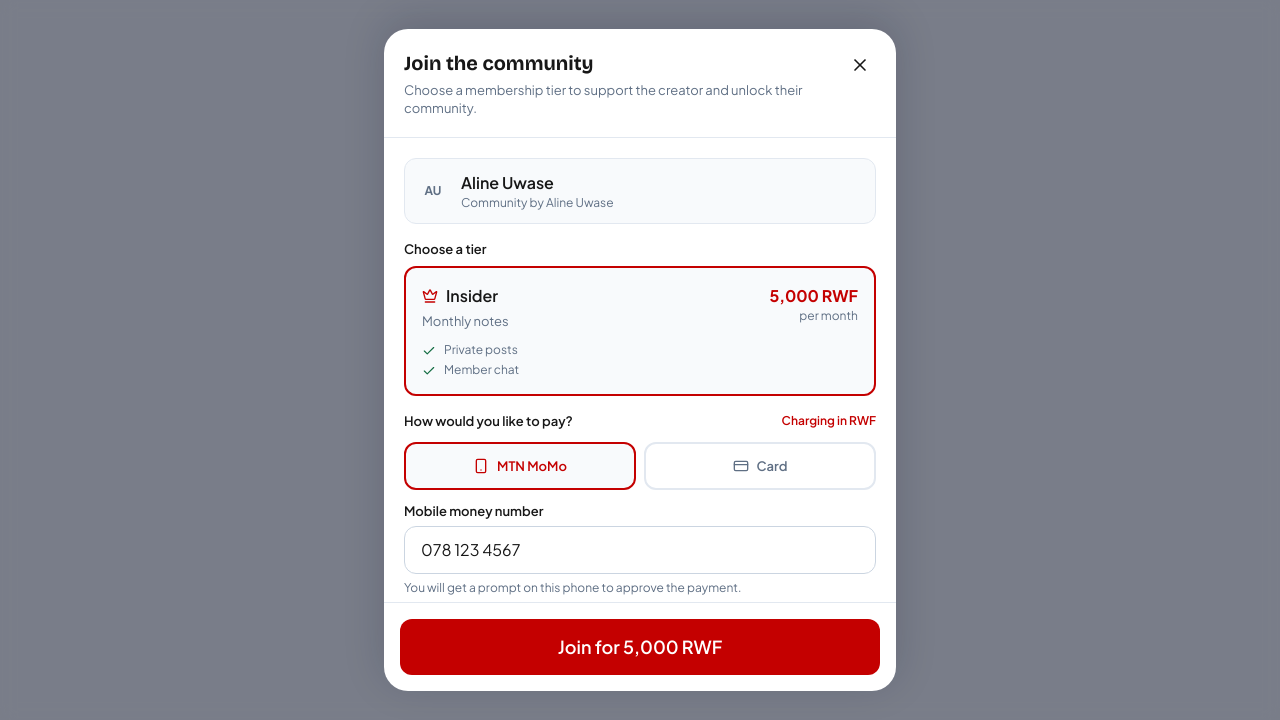
it: community join sheet › shows a retryable failure when the subscription cannot start
The image size is (1280, 720).
Click the button "Join for 5,000 RWF": {"x": 640, "y": 647} [400, 619, 880, 675]
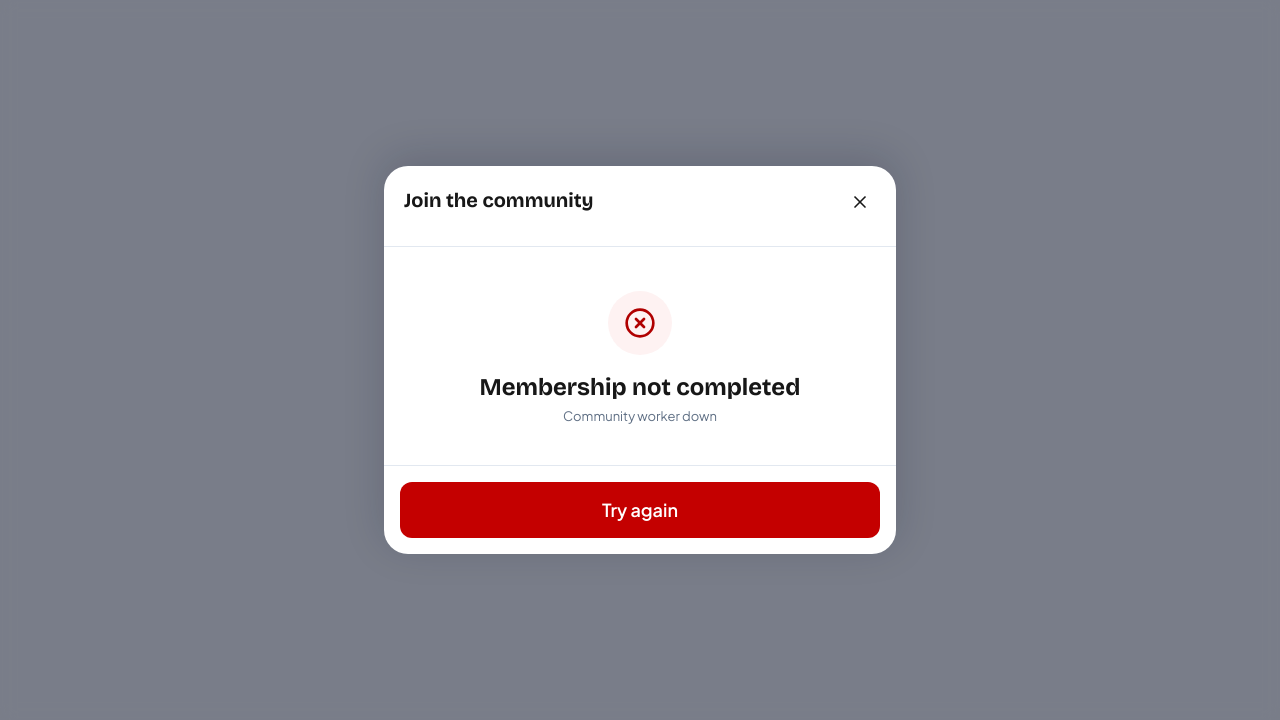
expect the heading "Membership not completed" is shown: met, box [480, 371, 800, 403]
expect the button "Try again" is shown: met, box [400, 482, 880, 538]
